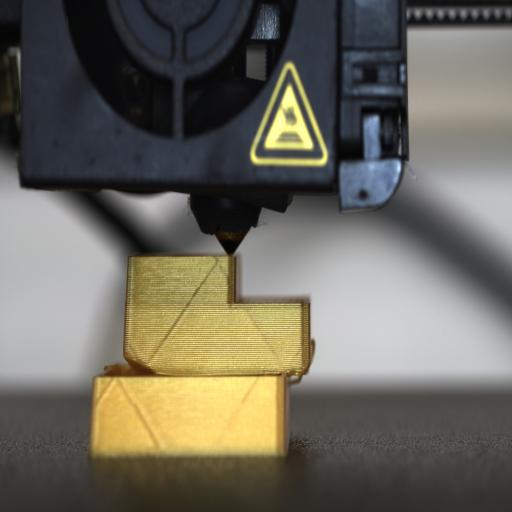layer_shift: (89, 352, 313, 384)
